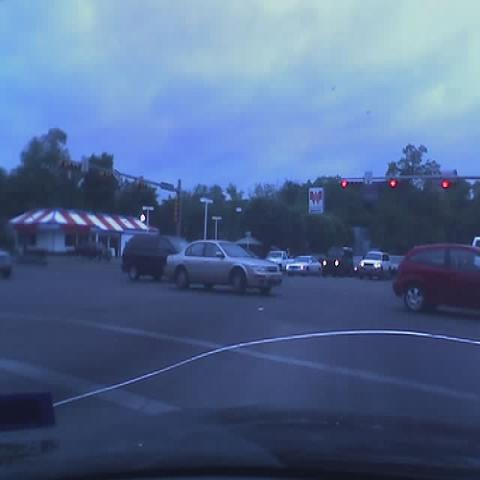car: (161, 239, 283, 296), (392, 240, 479, 314), (120, 233, 186, 279), (73, 238, 112, 260), (286, 255, 322, 276), (359, 251, 391, 271), (358, 265, 391, 281)
truck: (320, 241, 358, 278), (266, 250, 294, 271)
